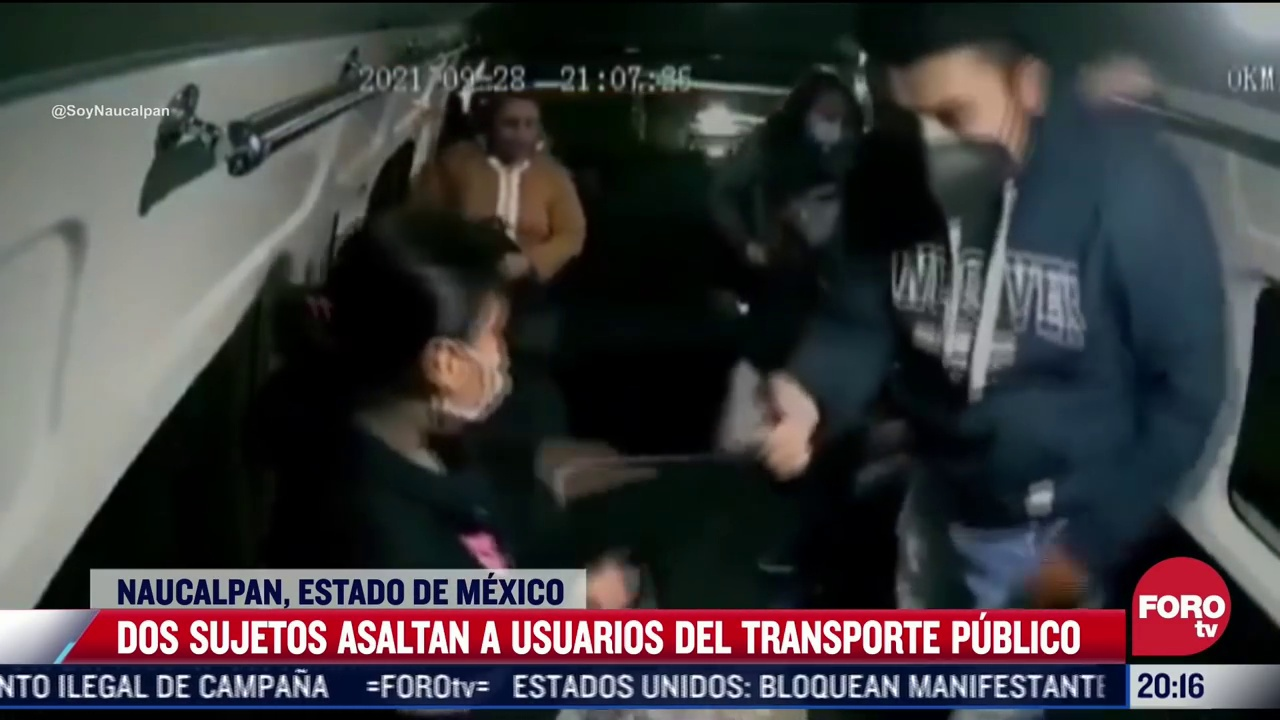pistol: (713, 360, 788, 459)
